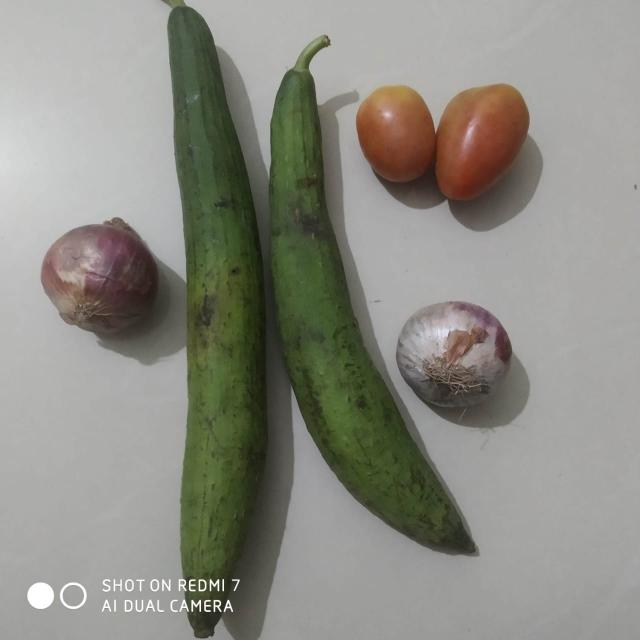Organik: (163, 1, 332, 630), (23, 210, 169, 348), (393, 290, 523, 410), (429, 83, 532, 217), (352, 82, 436, 190)
